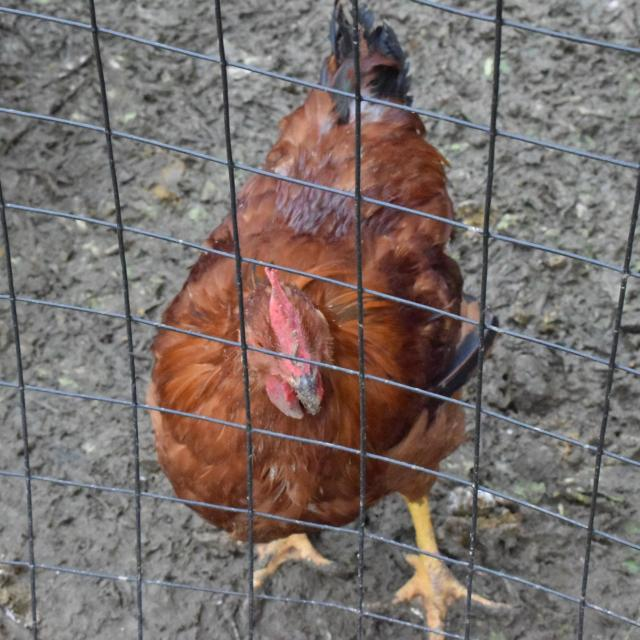cook: (138, 0, 495, 633)
